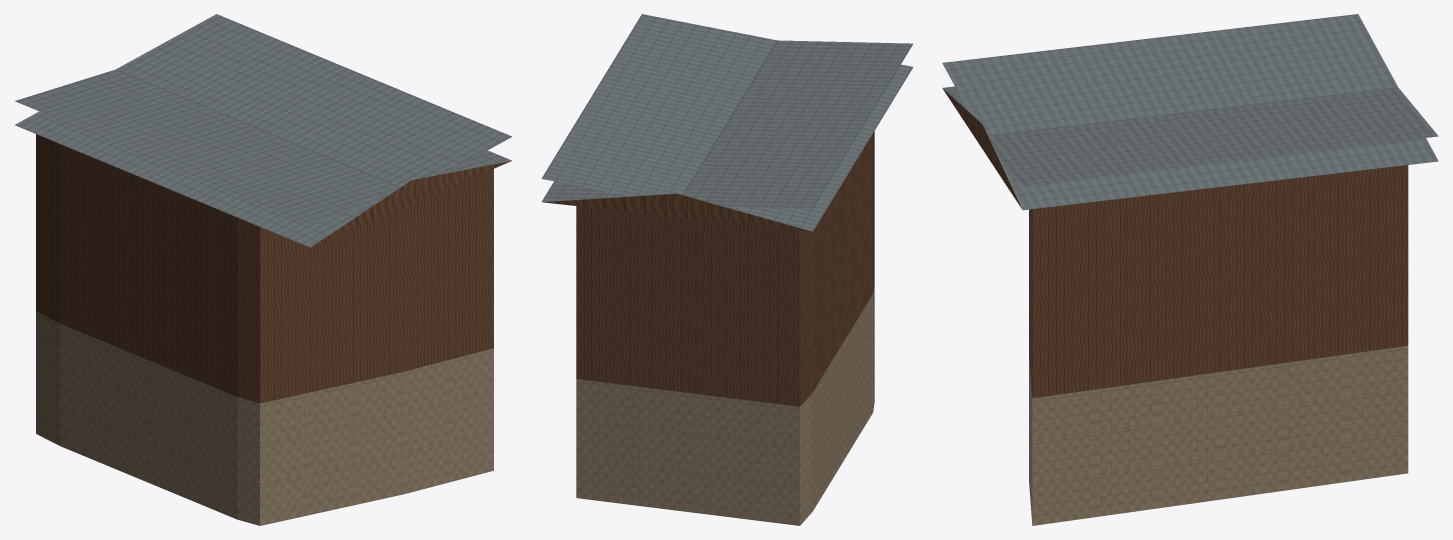
The model's file is bld_c-11_36_472.gltf.
3 renders of one model, left to right at view 1: azimuth 30°, elevation 25°; view 2: azimuth 150°, elevation 25°; view 3: azimuth 270°, elevation 25°, orthographic. The views are drawn at different scales.
Visible parts, largest first — view 1: bld_c-11_36_472; view 2: bld_c-11_36_472; view 3: bld_c-11_36_472.
Part boxes in pixels (x1,y1,x2,y2): bld_c-11_36_472: (15, 14, 511, 525); bld_c-11_36_472: (541, 14, 913, 525); bld_c-11_36_472: (942, 14, 1438, 525).
Bounding box in the file's own units: 14.68 × 13.9 × 17.99.
Materials: 4 (4 with a texture image).
